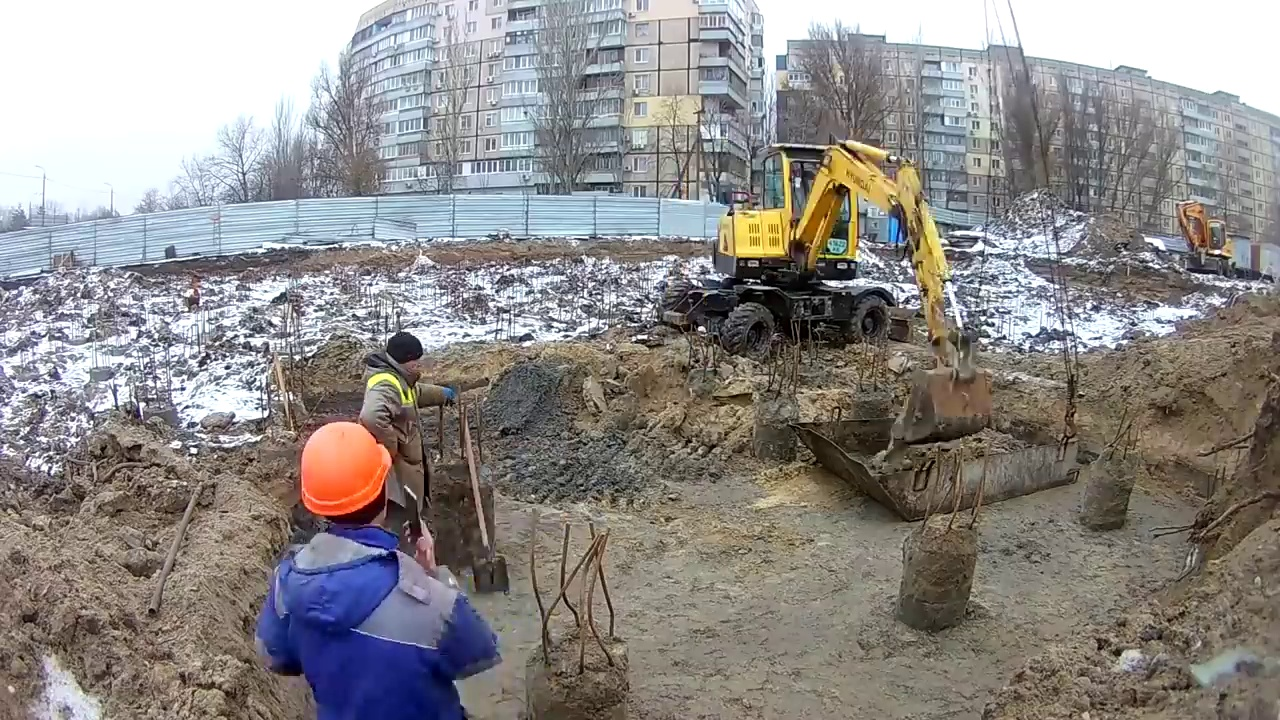helmet: (297, 428, 392, 516)
helmet-off: (383, 336, 423, 381)
helmet-on: (296, 422, 399, 536)
person: (253, 421, 499, 720), (357, 333, 459, 541)
